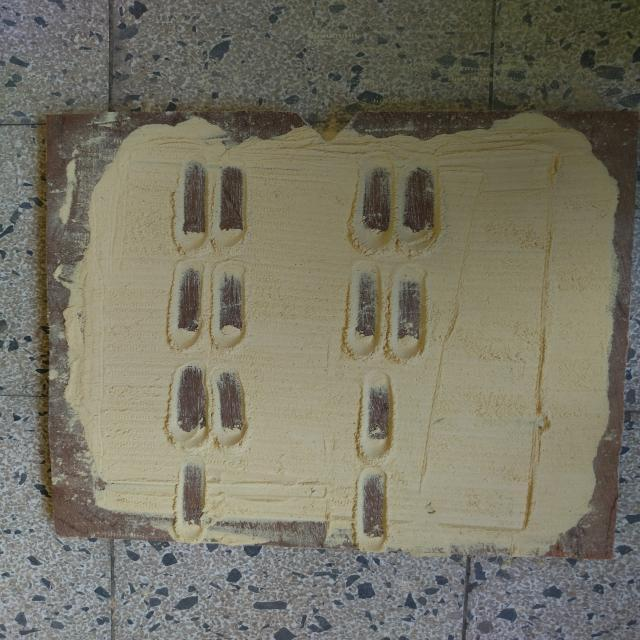double: (339, 255, 435, 366), (344, 156, 444, 257), (162, 354, 255, 454), (164, 252, 250, 356), (168, 154, 256, 254)
single: (353, 363, 402, 468), (168, 453, 216, 546), (352, 464, 397, 556)
